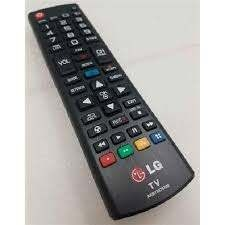remote control: (25, 2, 208, 225)
